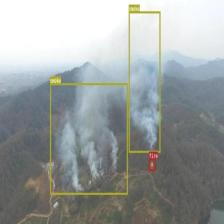fire: (149, 158, 155, 170)
smoke: (50, 83, 127, 194), (128, 11, 160, 152)
